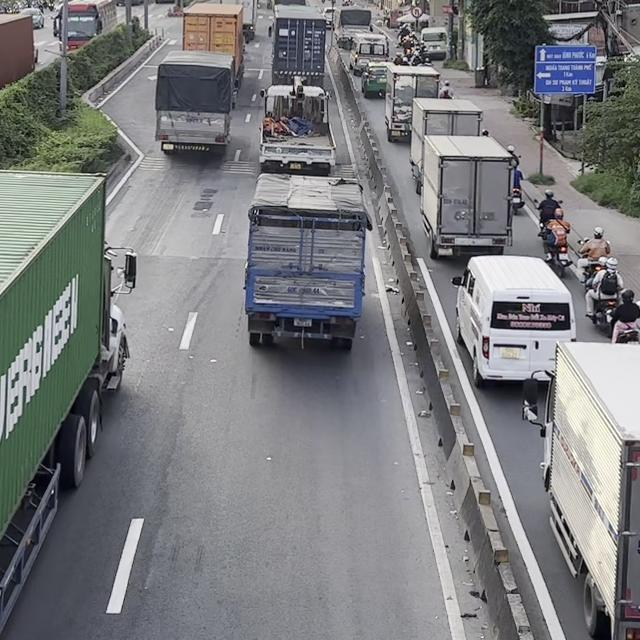car: (451, 254, 577, 388), (349, 34, 390, 76), (361, 61, 392, 98)
motorcycle: (583, 278, 624, 334), (537, 221, 572, 278), (578, 240, 610, 292), (605, 300, 640, 343)
truck: (0, 167, 137, 639), (520, 340, 639, 639), (243, 173, 372, 351), (417, 133, 515, 259), (154, 49, 236, 154), (405, 97, 483, 194), (257, 80, 336, 174), (181, 0, 245, 89), (379, 64, 441, 142), (267, 5, 326, 86), (332, 6, 373, 49)
